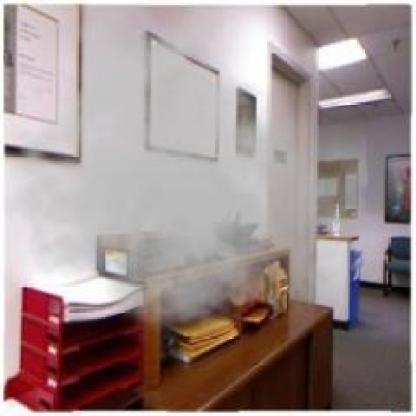Smoke: (0, 3, 369, 359)
